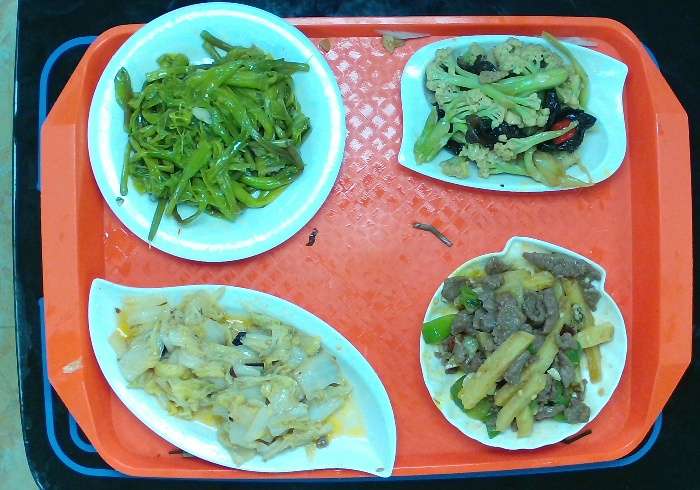RJxy-Bei_Ke_Wan: (414, 232, 632, 454)
RJxy-Jian_Jiao_Fang_Die: (393, 30, 635, 197)
RJxy-Jian_Jiao_Pan: (81, 275, 401, 483)
RJxy-Yuan_Pan: (82, 1, 351, 266)
